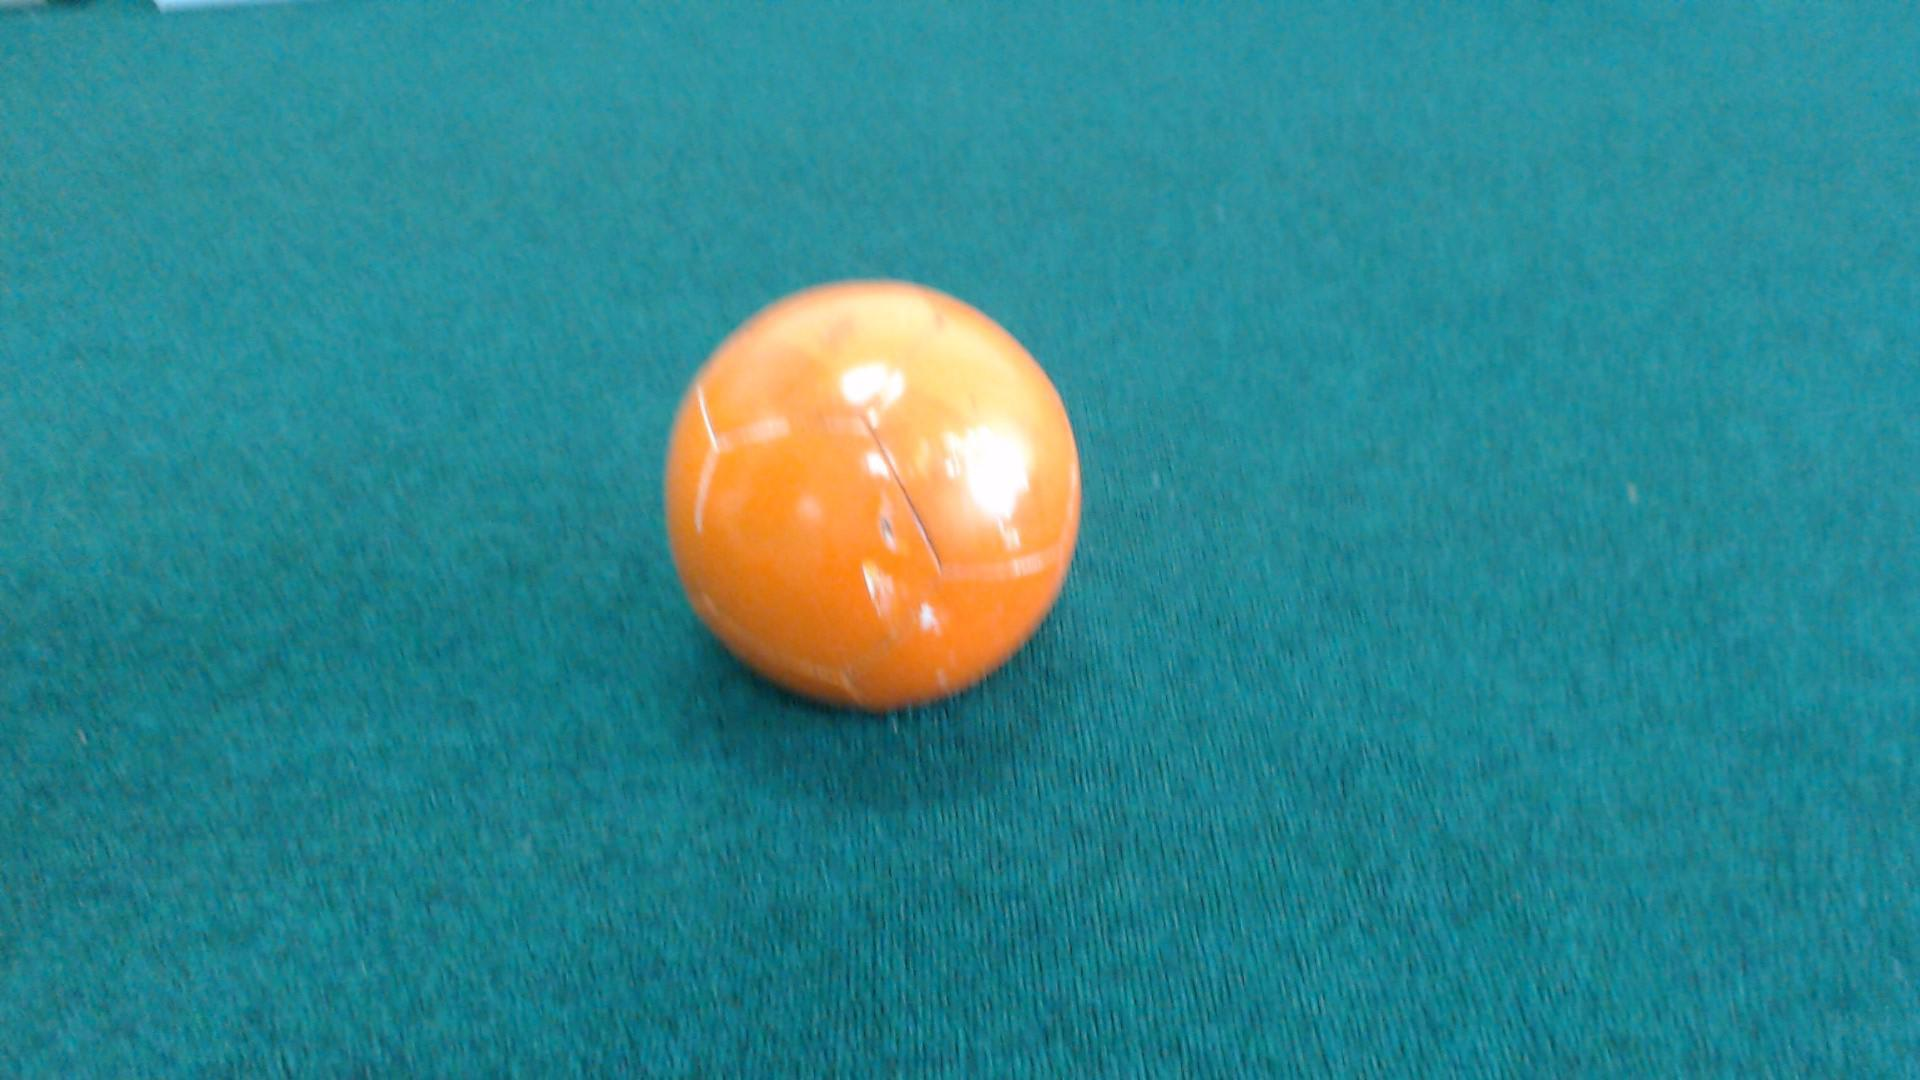bola: (625, 257, 1102, 724)
